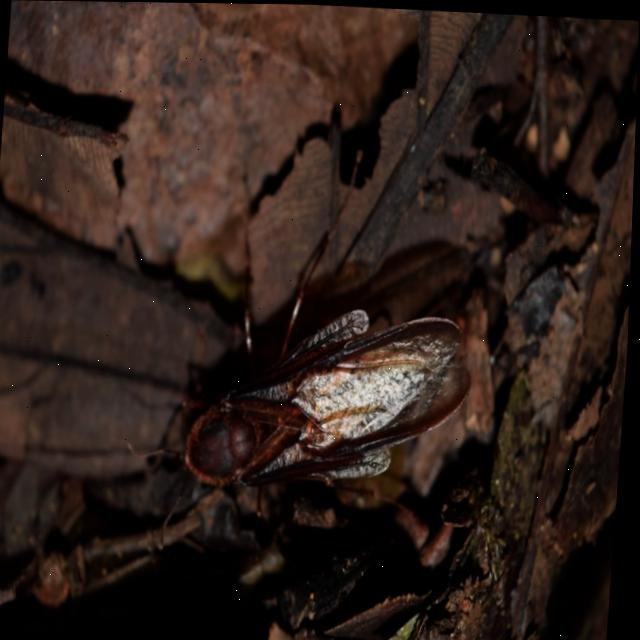Alive-Male-Alate: (122, 137, 489, 560)
